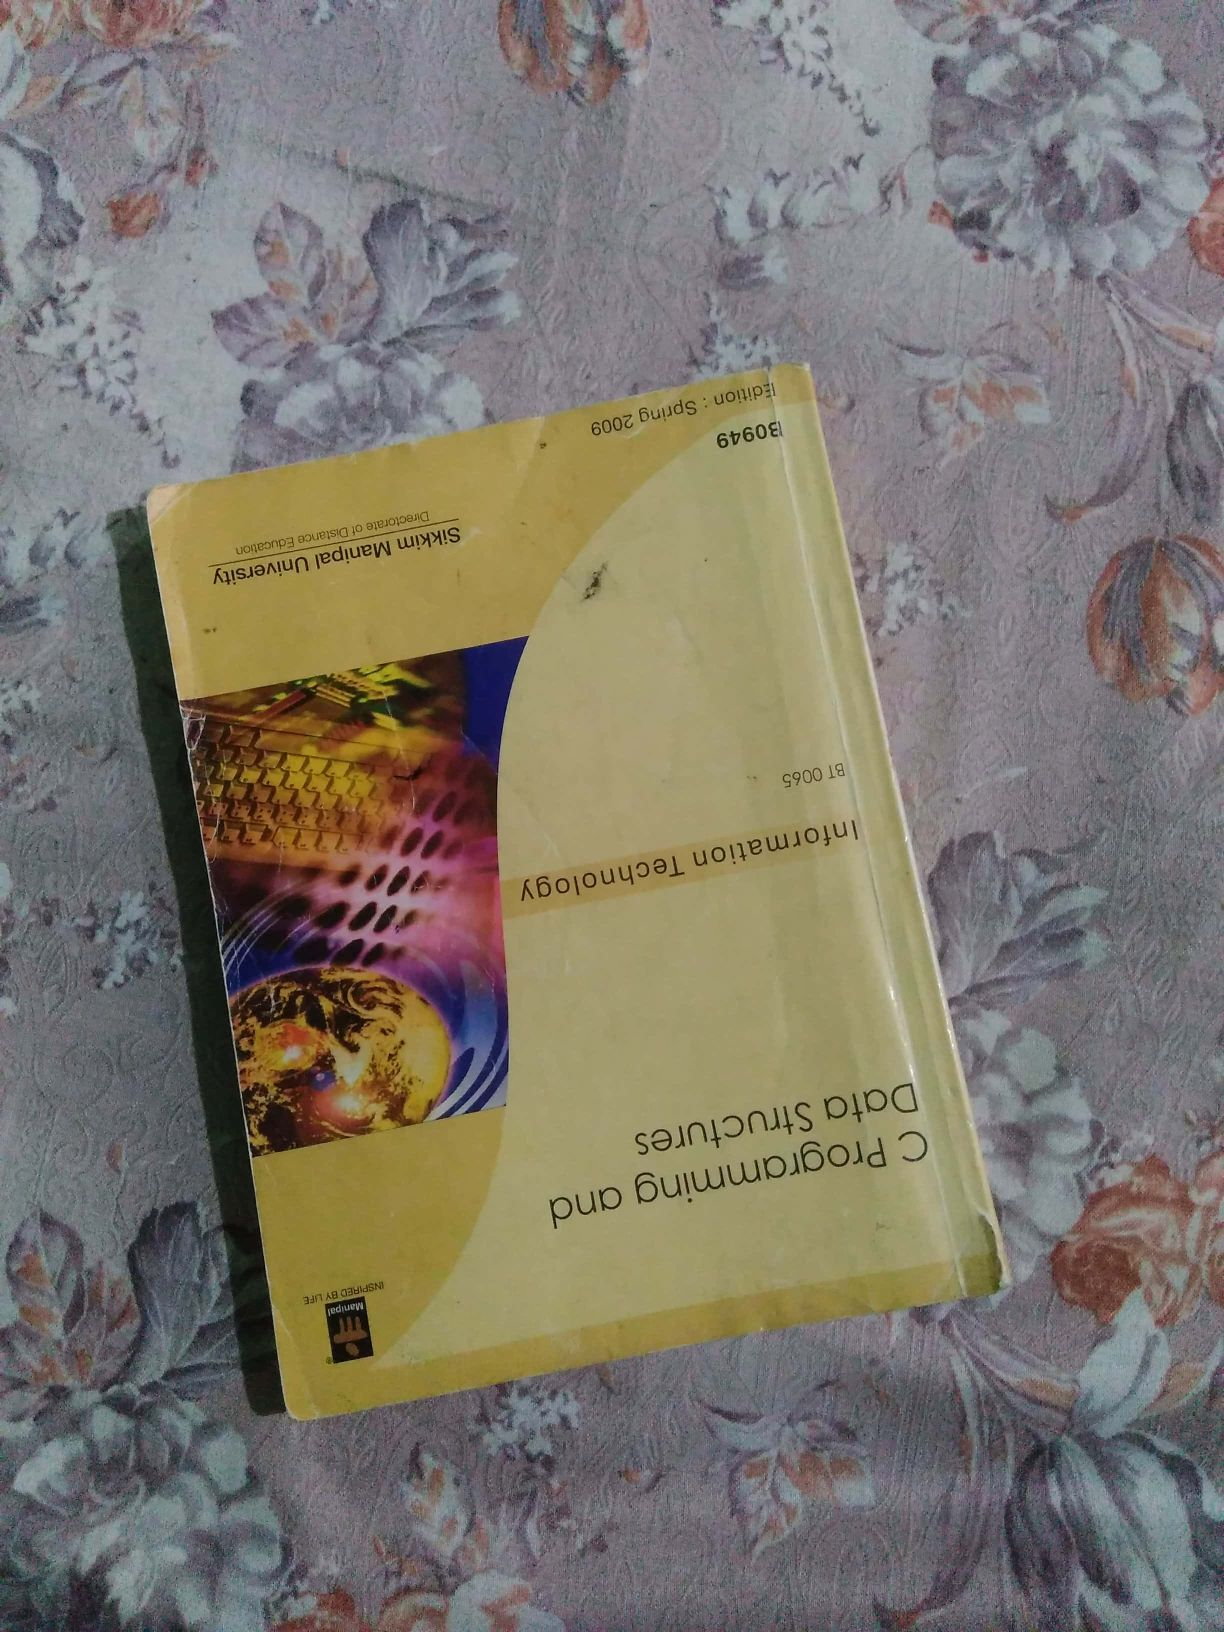clang: (166, 400, 987, 1402)
